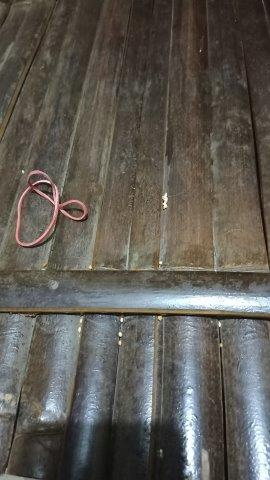karet: (16, 170, 88, 248)
